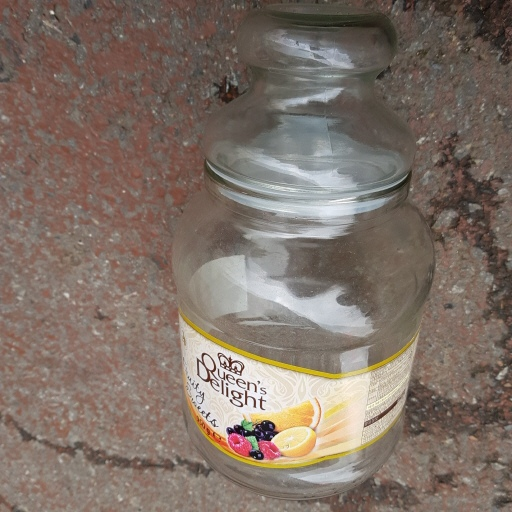Glass_5: (171, 9, 436, 495)
